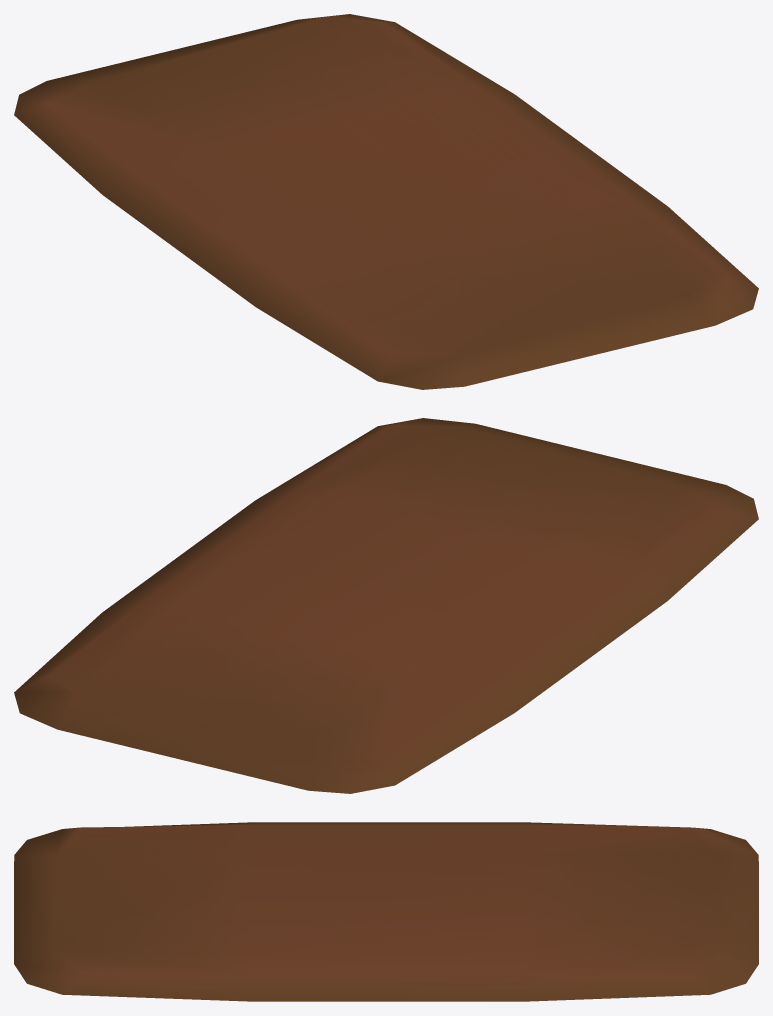
File: CustomColl_Field.fbx
3 renders of one model, top to bottom at view 1: azimuth 30°, elevation 25°; view 2: azimuth 150°, elevation 25°; view 3: azimuth 270°, elevation 25°, orthographic. The views are drawn at different scales.
Parts seen in each view (by area): view 1: Field_CollMesh; view 2: Field_CollMesh; view 3: Field_CollMesh.
Boxes of the visible parts, x1,y1,x2,y2 form: Field_CollMesh: (14,14,758,389); Field_CollMesh: (14,418,758,793); Field_CollMesh: (14,822,758,1001).
Bounding box in the file's own units: 7.15 × 0.3804 × 12.56.
